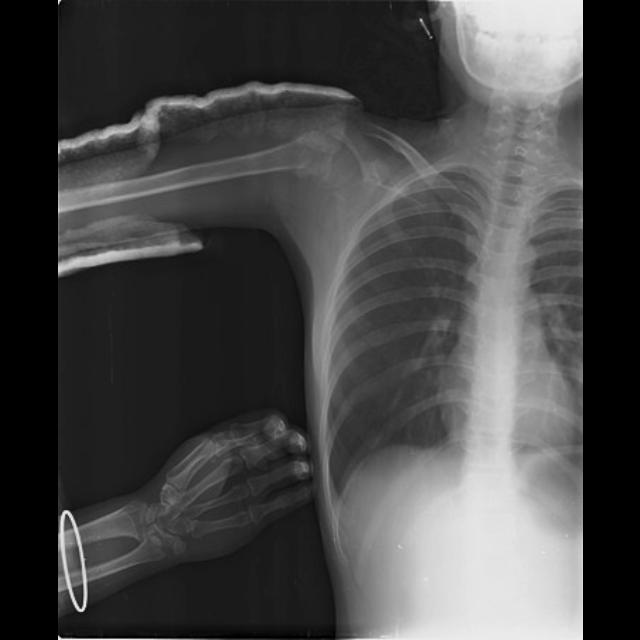Fracture: (289, 129, 333, 180)
